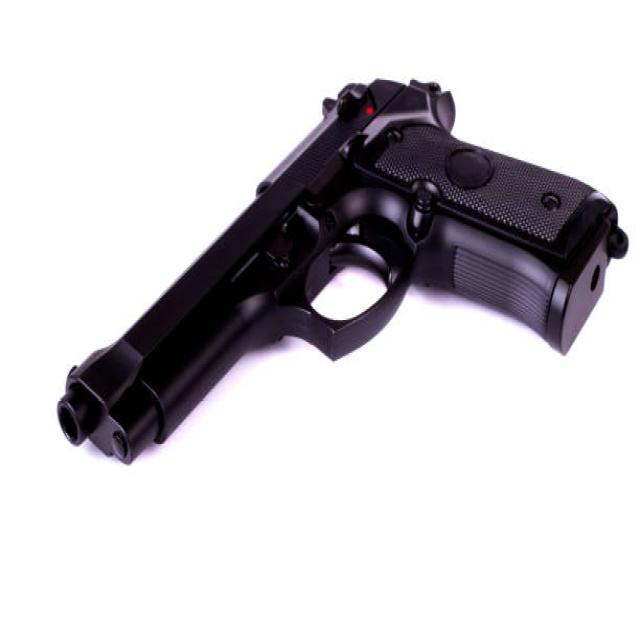pistol: (50, 57, 637, 477)
